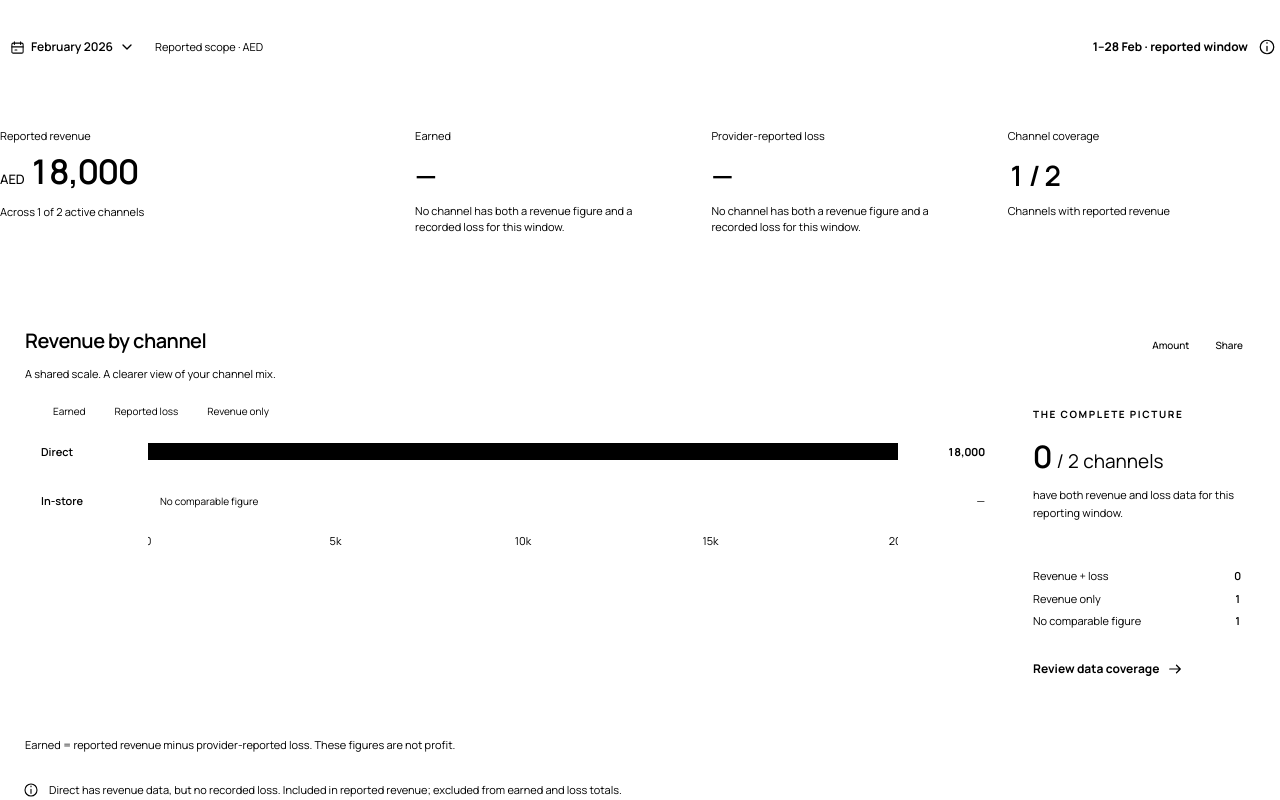
Test: ChannelsRollup › keeps every coverage row visible when earned is null
Click the button "Review data coverage". click: (1109, 669)
box: [1033,660,1184,678]
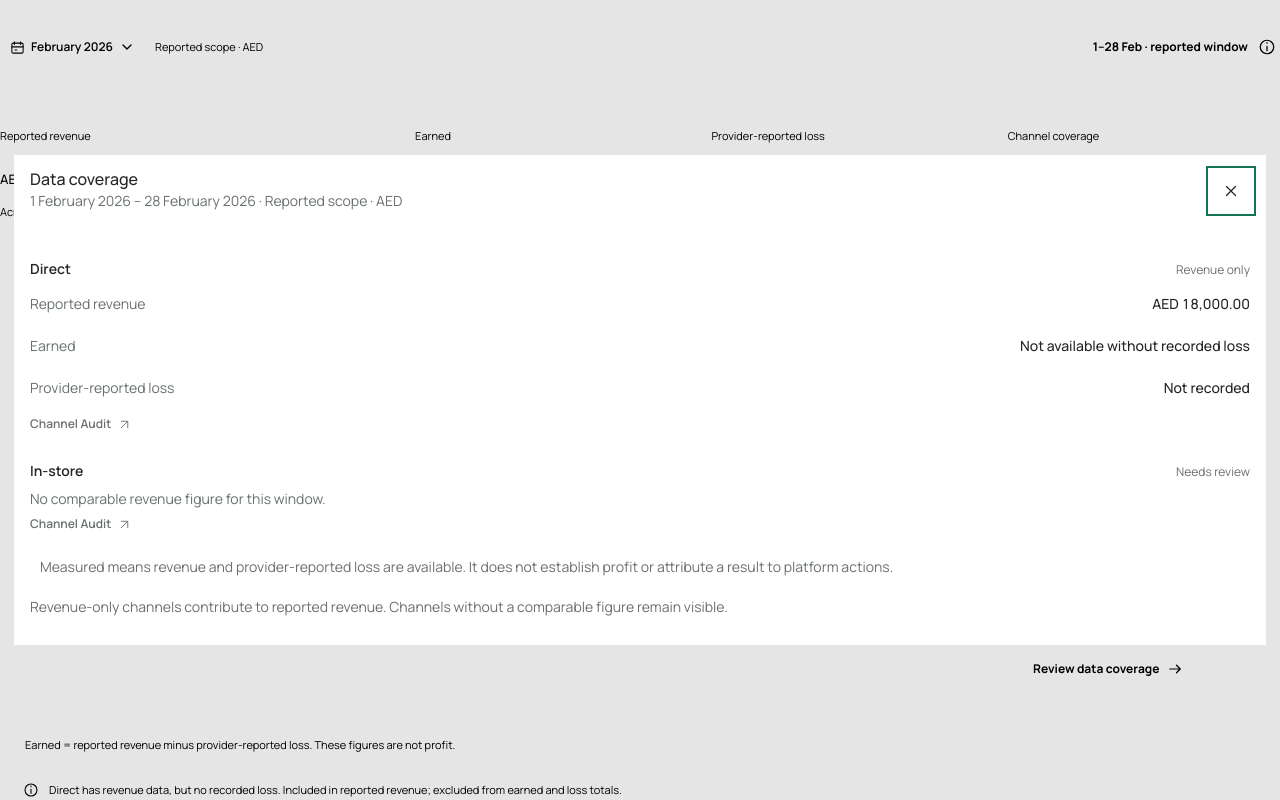
Expected: the element named "Direct, Revenue only" is shown, [30,247,1250,445]
Expected: the element named "In-store, Needs review" is shown, [30,449,1250,545]
